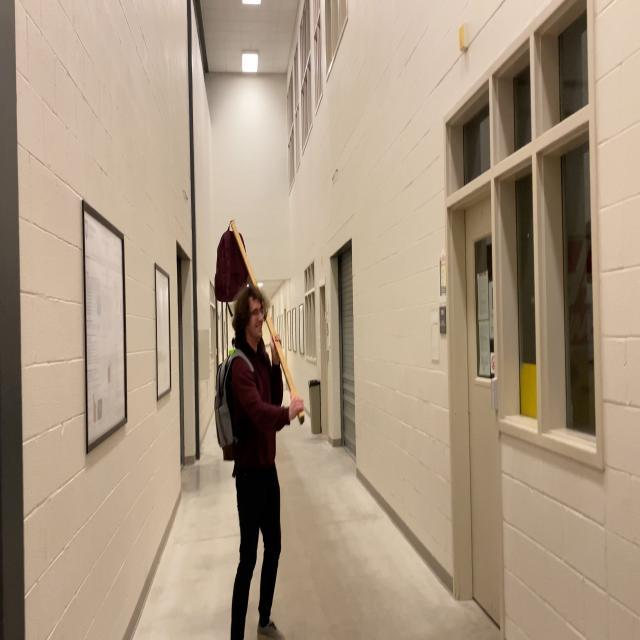Backpacks: (211, 354, 239, 464), (214, 227, 248, 300)
